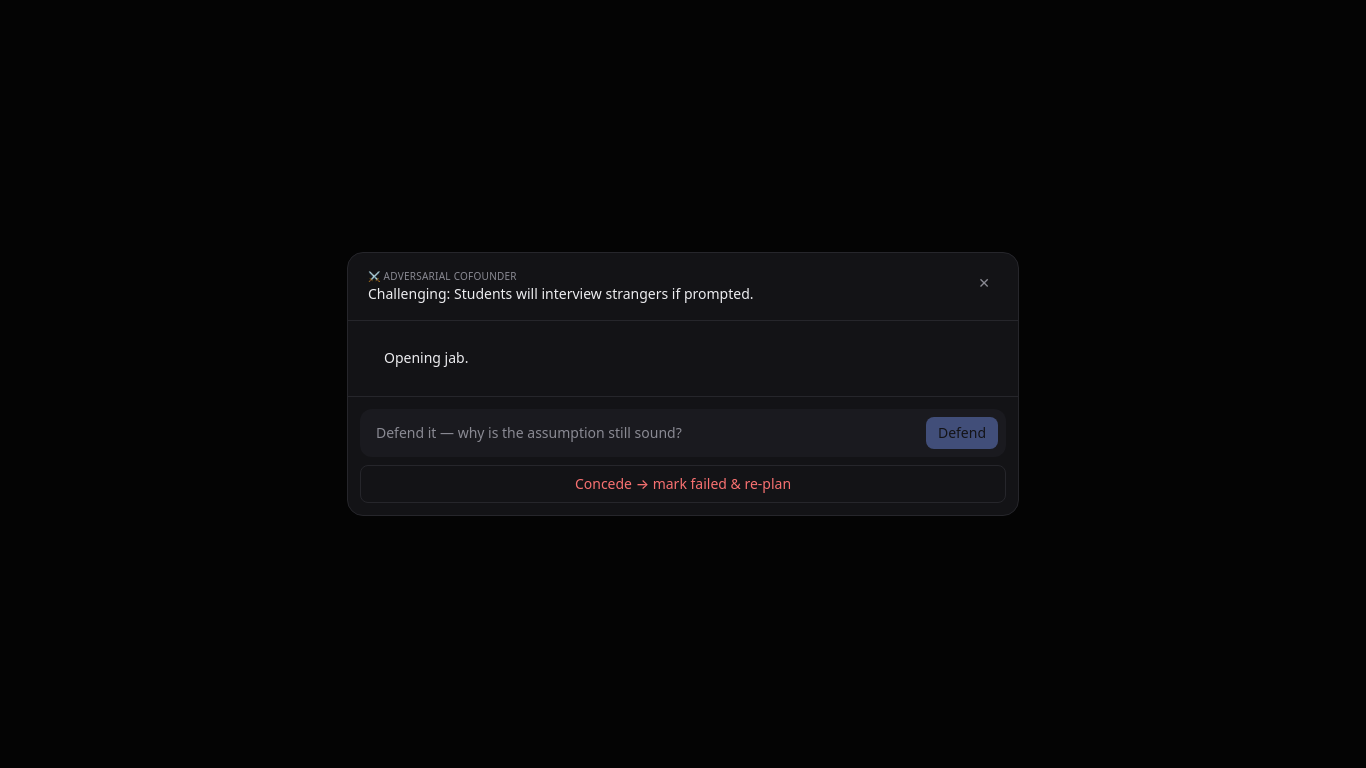
Test: ChallengeModal › lets the founder defend and streams a rebuttal with prior context
Expected: the text "Opening jab." is shown, x1=384 y1=348 x2=468 y2=367
Step 1. Type "We have 10 signed LOIs" into the text box with placeholder "Defend it — why is the assumption still sound?" → point(643, 433), box x1=368 y1=417 x2=918 y2=449
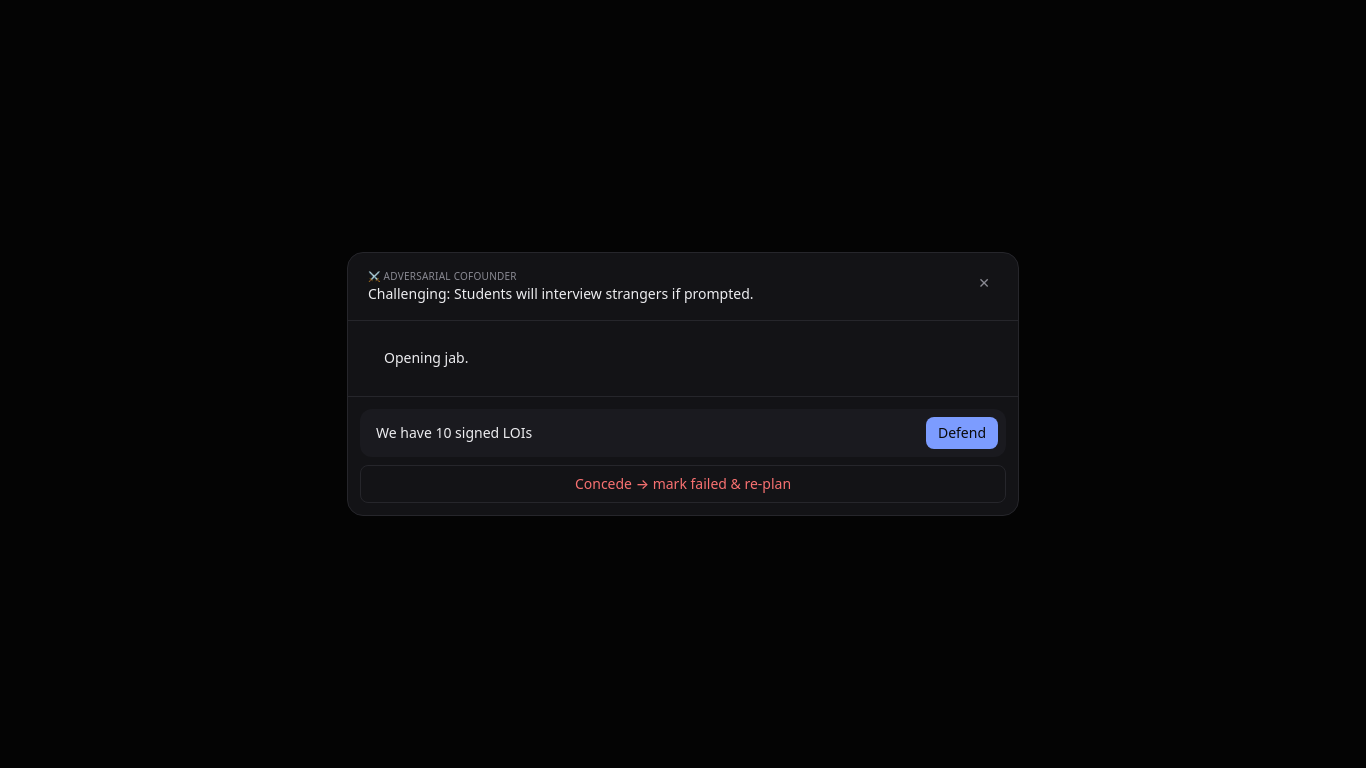
Step 2. Click the button "Defend" → point(962, 433), box x1=926 y1=417 x2=998 y2=449
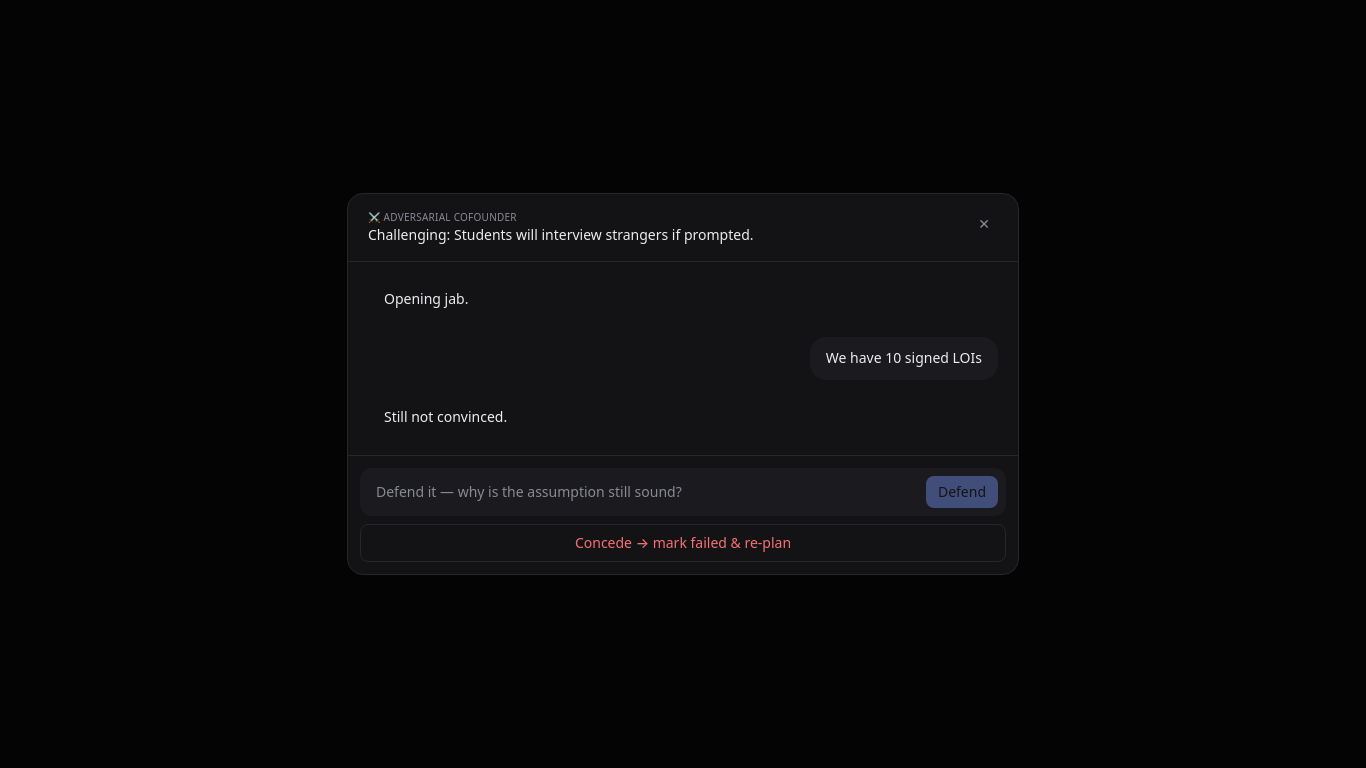
Result: the text "Still not convinced." is shown at x1=384 y1=407 x2=507 y2=426
